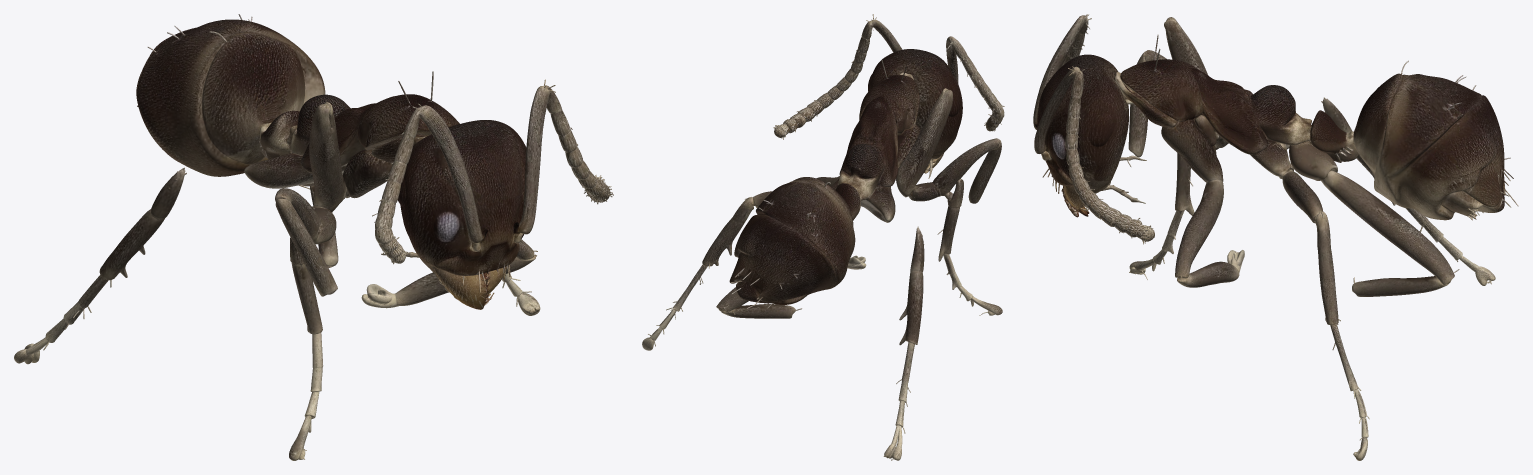
The model's file is esp9.glb.
3 renders of one model, left to right at view 1: azimuth 30°, elevation 25°; view 2: azimuth 150°, elevation 25°; view 3: azimuth 270°, elevation 25°, orthographic. The views are drawn at different scales.
Bounding box in the file's own units: 1.63 × 1.39 × 1.83.
1 material, 1 textured.
